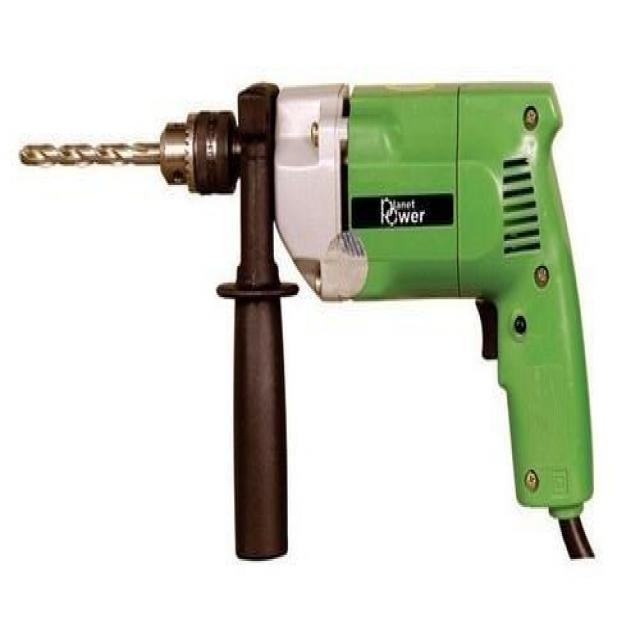drill: (16, 81, 596, 559)
